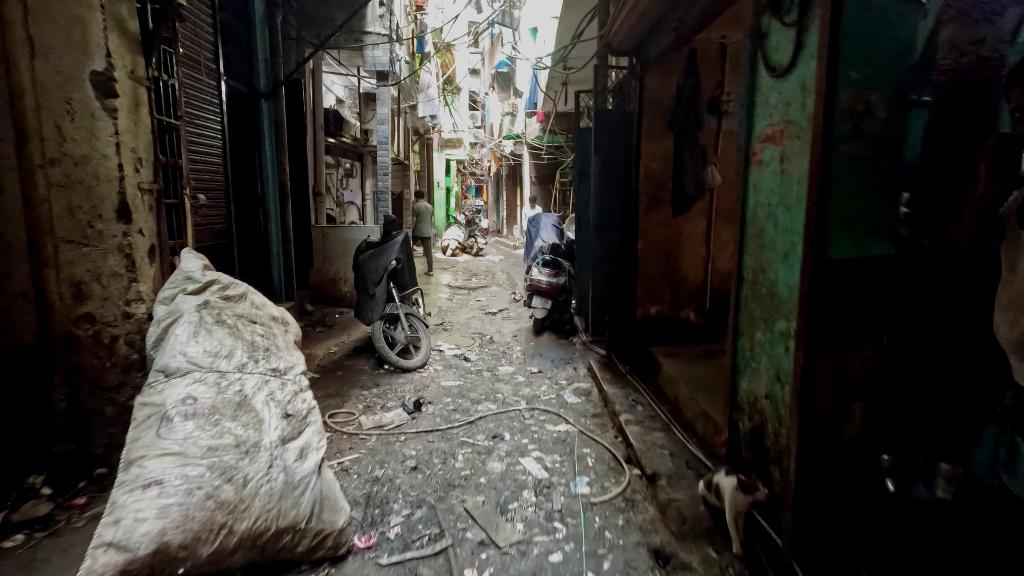garbage: (468, 493, 521, 549), (355, 392, 425, 432), (433, 339, 472, 367), (523, 452, 547, 483), (354, 533, 373, 549)
